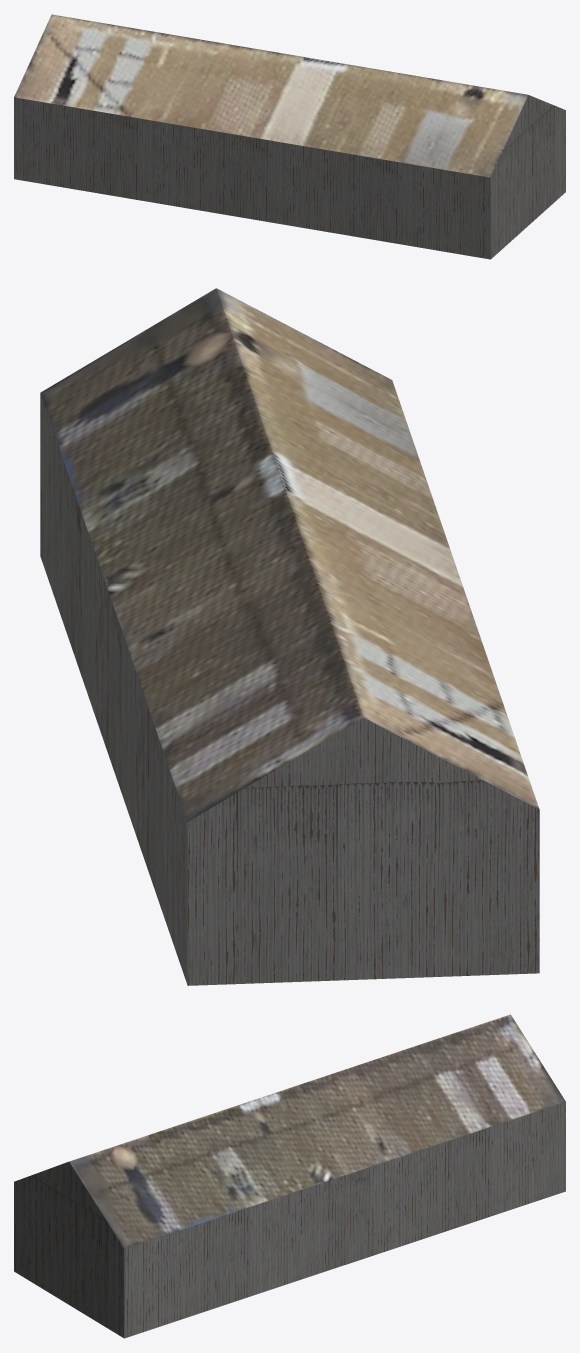
The model's file is techniZrif3.dae.
3 renders of one model, top to bottom at view 1: azimuth 30°, elevation 25°; view 2: azimuth 150°, elevation 25°; view 3: azimuth 270°, elevation 25°, orthographic. The views are drawn at different scales.
Visible parts, largest first — view 1: SketchUp (×2); view 2: SketchUp (×2); view 3: SketchUp (×2).
Boxes of the visible parts, x1=… form: SketchUp (×2): x1=14, y1=14, x2=565, y2=259; SketchUp (×2): x1=40, y1=288, x2=539, y2=985; SketchUp (×2): x1=14, y1=1014, x2=565, y2=1338.
Bounding box in the file's own units: 771 × 840 × 241.
